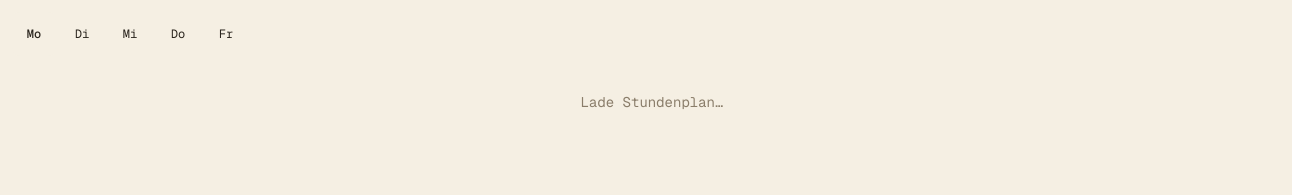
Test: ScheduleWidget › zeigt Unterrichtseinträge für den aktiven Tag
This screenshot has width=1292, height=195.
Click the button "Mo" at (34, 34), box 12,12 -> 56,56
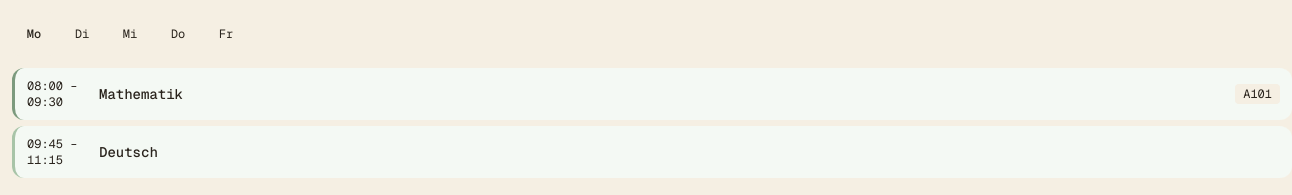
Check: the text "Mathematik" is shown, box 99,85 -> 183,103
Check: the text "Deutsch" is shown, box 99,143 -> 158,161
Check: the text "A101" is shown, box 1235,84 -> 1280,104
